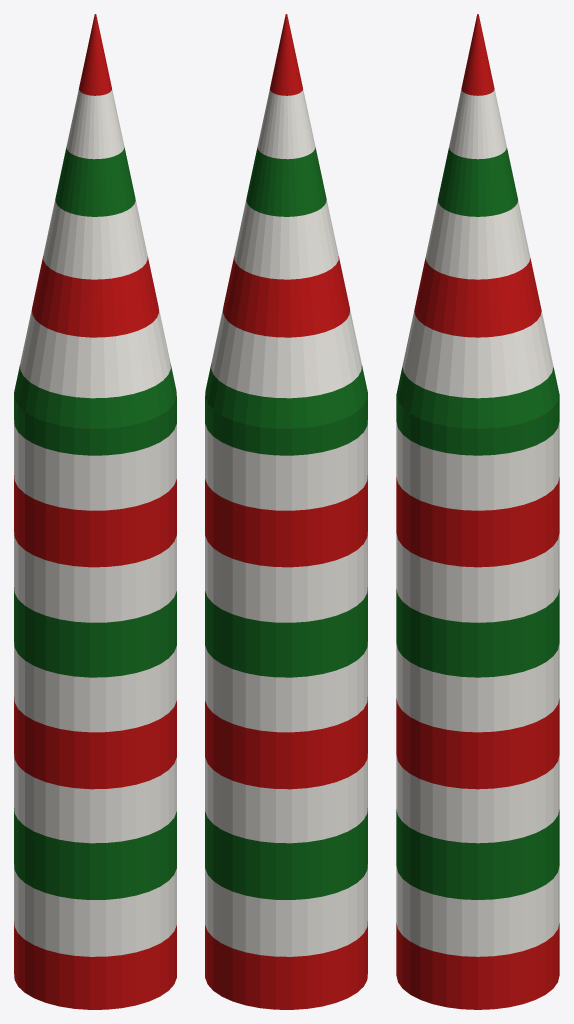
Rendered from GiantCandySpike.fbx.
The picture shows the model from 3 angles, left to right: view 1: azimuth 30°, elevation 25°; view 2: azimuth 150°, elevation 25°; view 3: azimuth 270°, elevation 25°; orthographic projection.
Visible parts, largest first — view 1: GiantCandySpike; view 2: GiantCandySpike; view 3: GiantCandySpike.
Boxes of the visible parts, x1,y1,x2,y2 form: GiantCandySpike: [14, 14, 176, 1009]; GiantCandySpike: [205, 14, 367, 1009]; GiantCandySpike: [396, 14, 559, 1009].
Bounding box in the file's own units: 400 × 2600 × 400.
